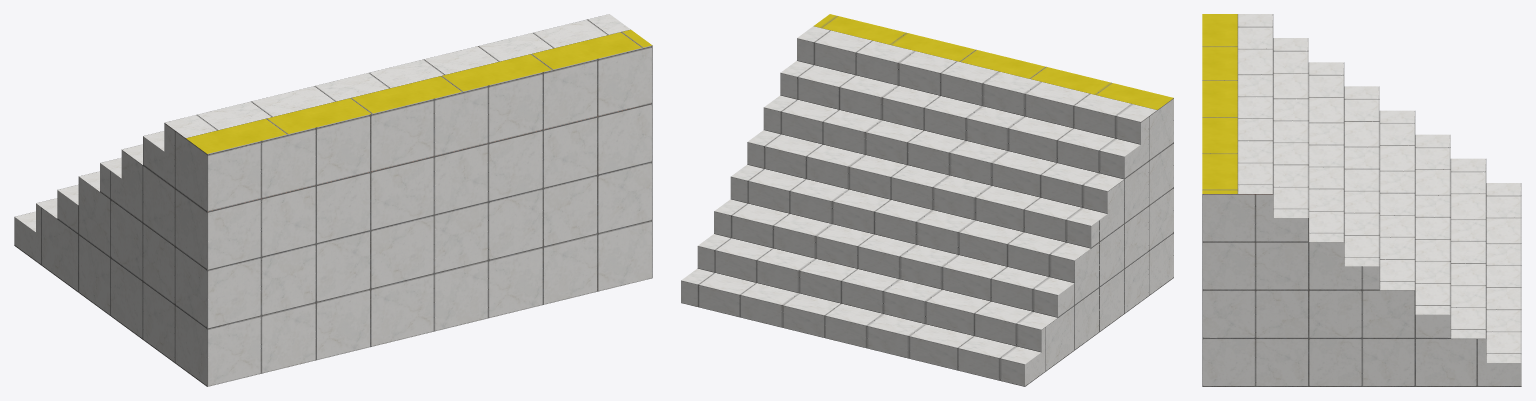
The model's file is Stairs_2.fbx.
3 renders of one model, left to right at view 1: azimuth 30°, elevation 25°; view 2: azimuth 150°, elevation 25°; view 3: azimuth 270°, elevation 25°, orthographic. The views are drawn at different scales.
Parts seen in each view (by area): view 1: Stairs_2; view 2: Stairs_2; view 3: Stairs_2.
Part boxes in pixels (bbox=[...]): Stairs_2: bbox=[14, 14, 652, 386]; Stairs_2: bbox=[681, 14, 1173, 386]; Stairs_2: bbox=[1202, 14, 1521, 386].
Size of the model in its own units: 4 by 2 by 3.
